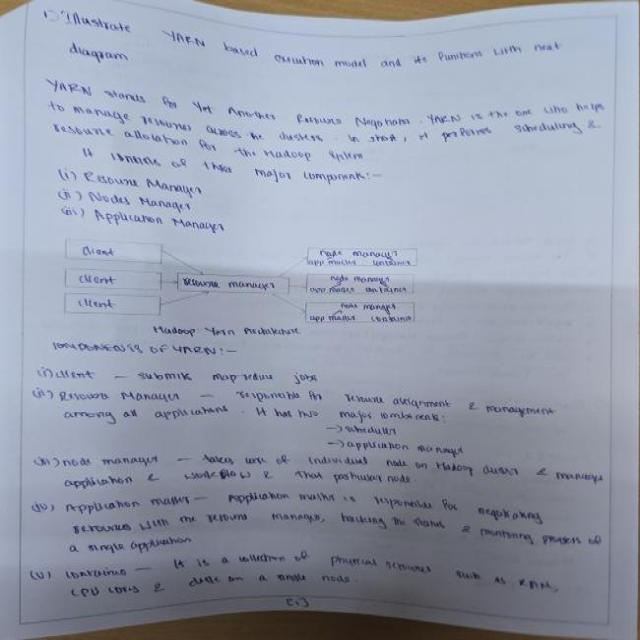Figure Detection - v3 Dataset Version2: (54, 231, 439, 339)
